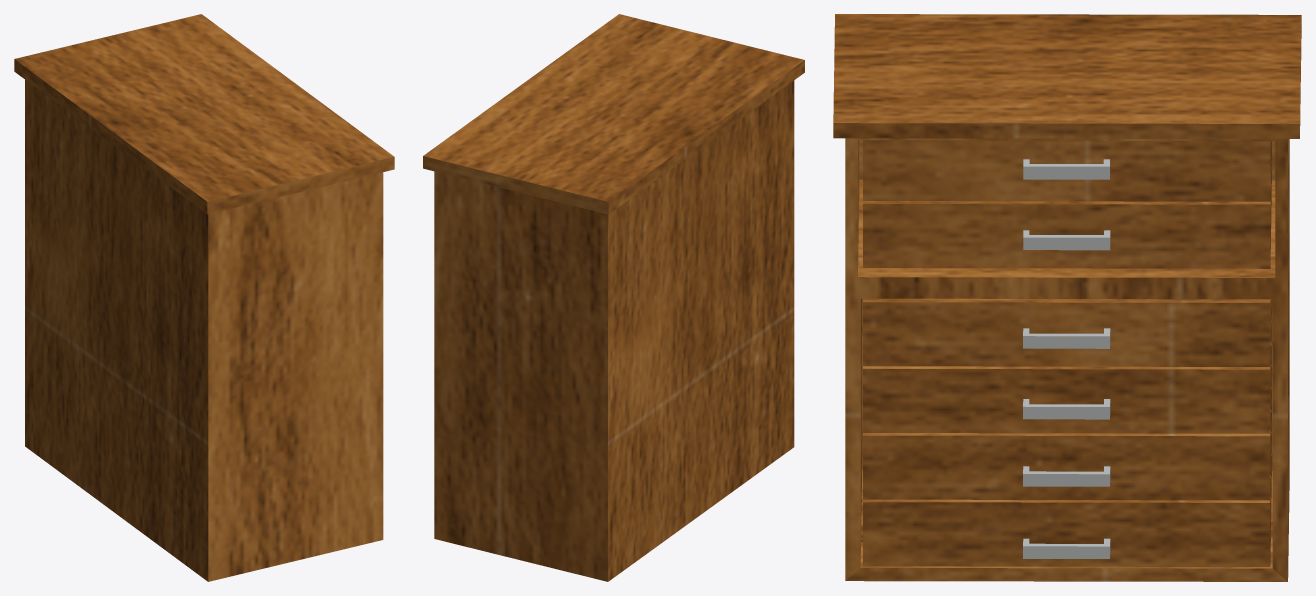
File: cabinet1.fbx
3 views of the same model, side by side, from view 1: azimuth 30°, elevation 25°; view 2: azimuth 150°, elevation 25°; view 3: azimuth 270°, elevation 25° (orthographic). The views are drawn at different scales.
Parts seen in each view (by area): view 1: pCube815.001; view 2: pCube815.001; view 3: pCube815.001.
Boxes of the visible parts, x1,y1,x2,y2 form: pCube815.001: (14,14,394,581); pCube815.001: (423,14,804,581); pCube815.001: (833,14,1301,581).
Bounding box in the file's own units: 0.5318 × 1.01 × 0.9244.
2 materials, 2 textured.
